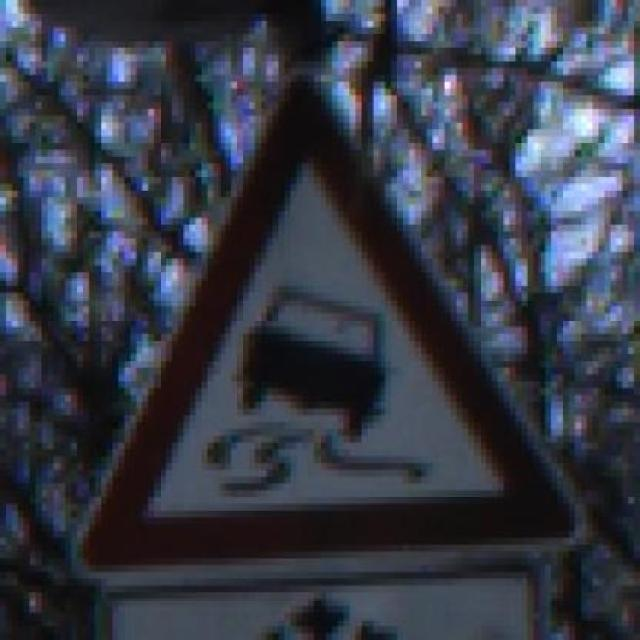Slippery Road Ahead: (65, 67, 593, 578)
